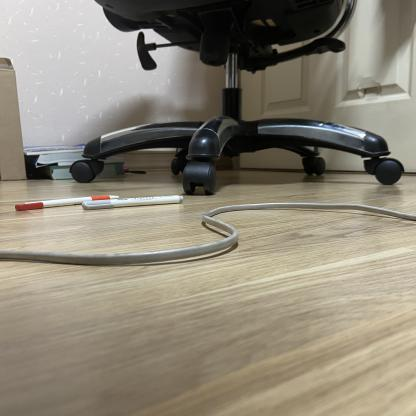chair: (70, 1, 406, 198)
pen: (17, 196, 122, 213), (83, 196, 184, 211)
wire: (1, 203, 416, 269)
